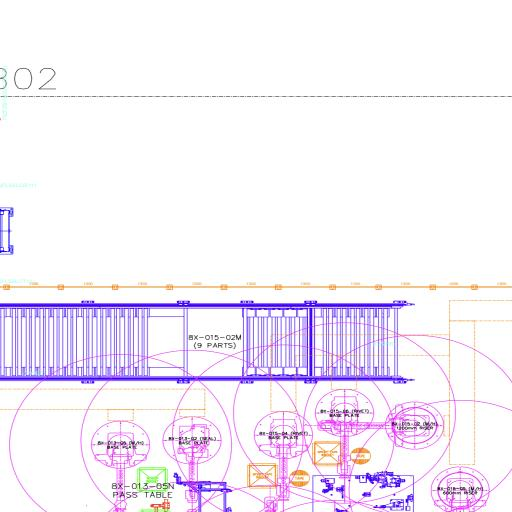robot: (158, 417, 223, 505), (88, 418, 150, 510), (315, 388, 377, 478), (254, 414, 312, 502)
